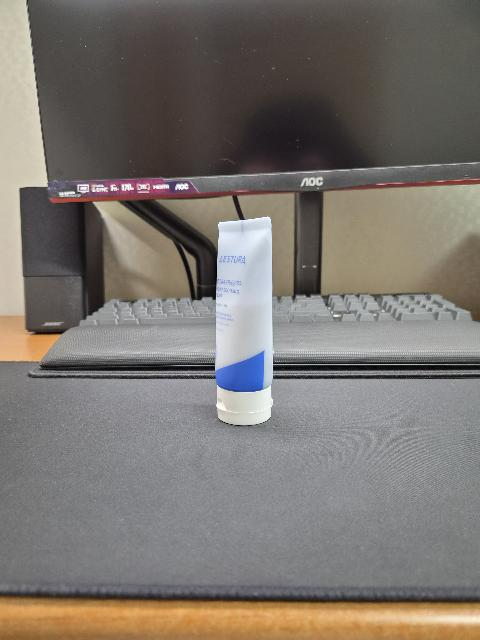handcream: (215, 216, 273, 426)
